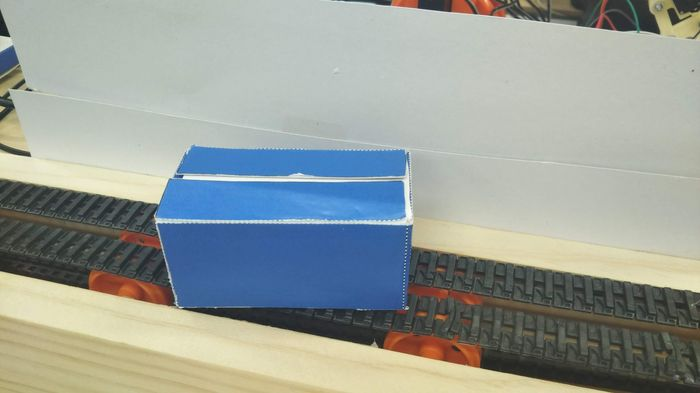box3: (148, 137, 421, 315)
